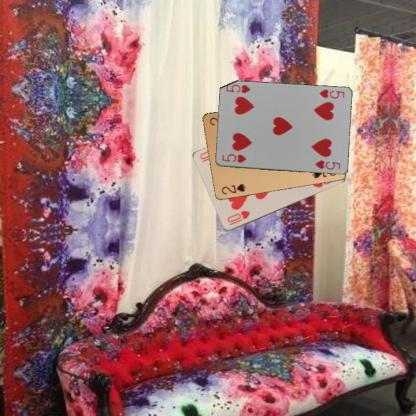10h: (225, 208, 251, 226)
2s: (219, 181, 247, 196)
5h: (316, 87, 346, 100), (220, 151, 247, 164)
